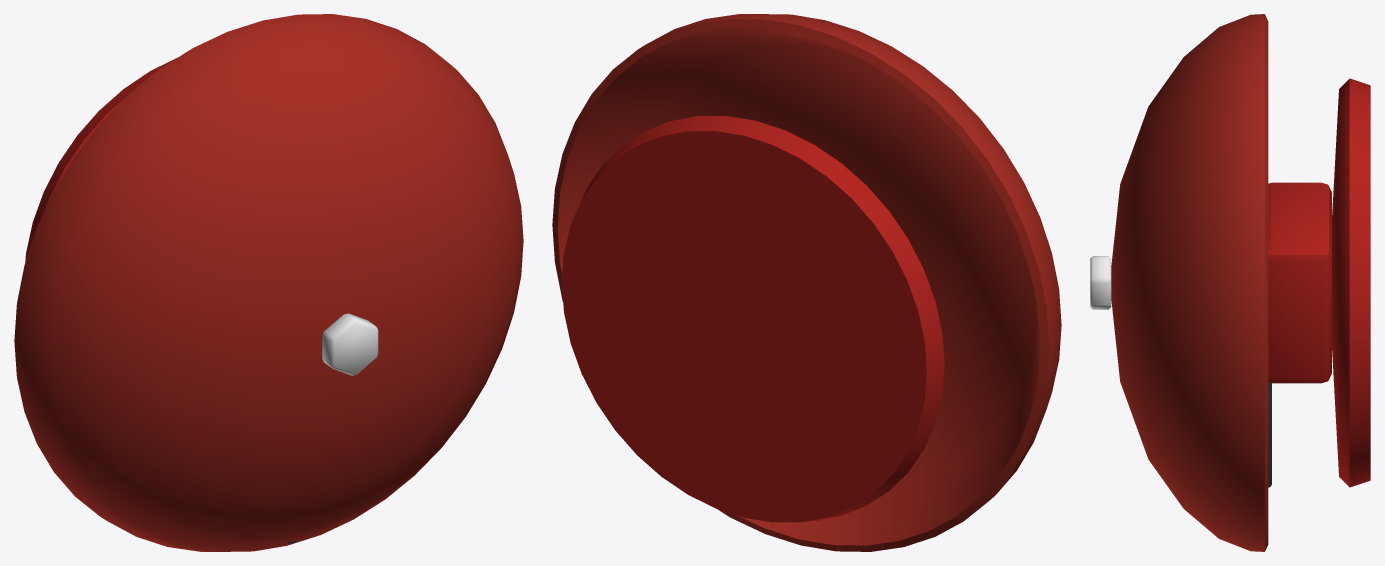
File: Kit_FireBell.fbx
3 renders of one model, left to right at view 1: azimuth 30°, elevation 25°; view 2: azimuth 150°, elevation 25°; view 3: azimuth 270°, elevation 25°, orthographic. The views are drawn at different scales.
Parts seen in each view (by area): view 1: Kit_FireBell_LOD0; view 2: Kit_FireBell_LOD0; view 3: Kit_FireBell_LOD0.
Part boxes in pixels (left/top/right/bottom): Kit_FireBell_LOD0: left=14, top=14, right=523, bottom=551; Kit_FireBell_LOD0: left=552, top=14, right=1061, bottom=551; Kit_FireBell_LOD0: left=1090, top=14, right=1370, bottom=551.
Size of what is drawn, in the model's own units: 0.1524 by 0.1524 by 0.0795.
